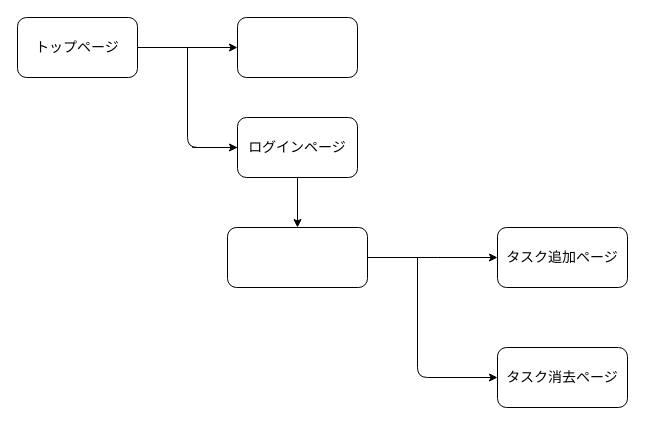
The diagram is 645 pixels wide and 425 high, and some of its shapes have lost their labels. Here are the shapes that lost their labels. From the top down, the centre of each, then its label:
At [297,47]: "サインインページ".
At [297,257]: "タスクリストページ".
